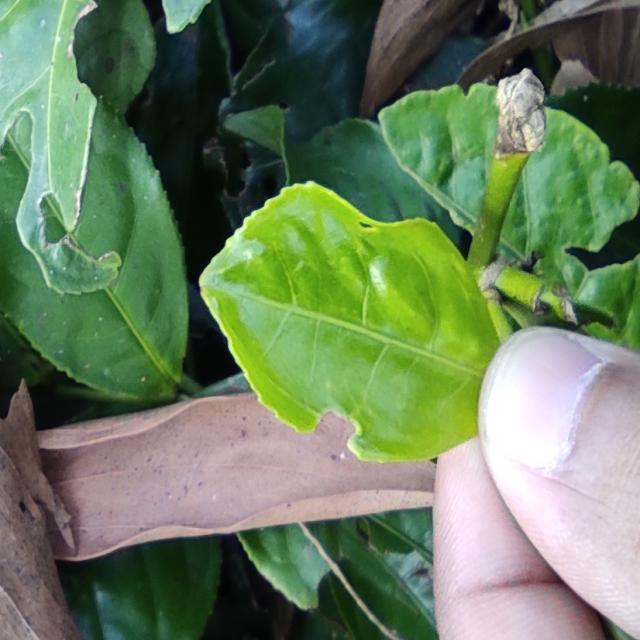Category C(4-7 days): (178, 157, 512, 457)
